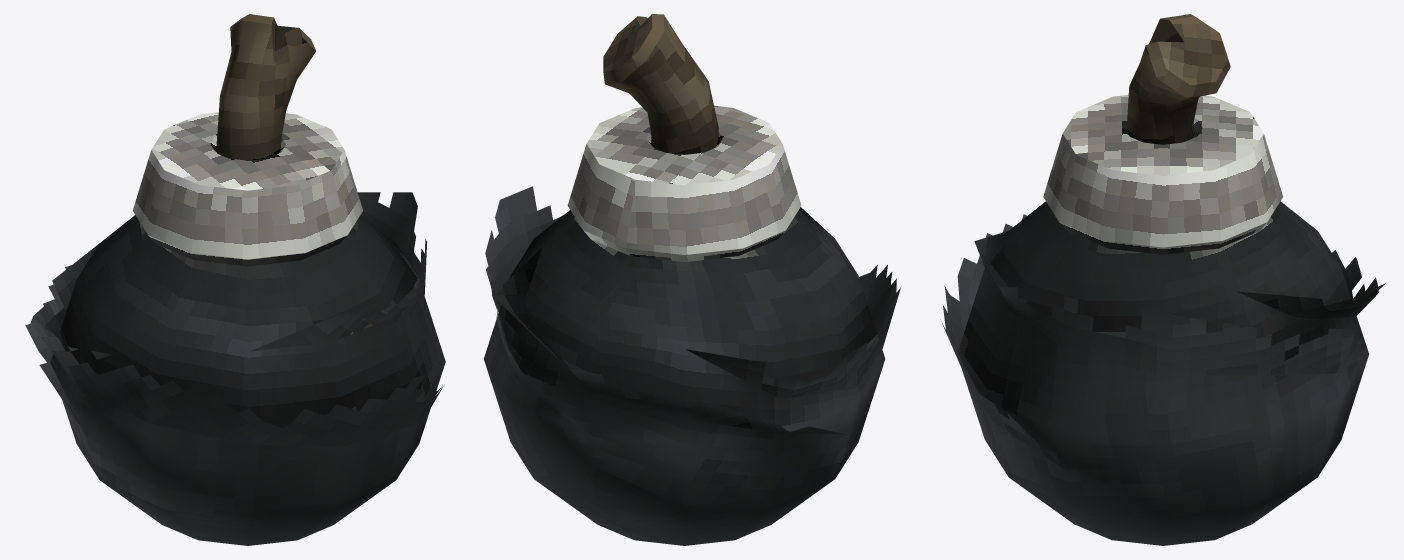
Rendered from bomb.fbx.
3 views of the same model, side by side, from view 1: azimuth 30°, elevation 25°; view 2: azimuth 150°, elevation 25°; view 3: azimuth 270°, elevation 25° (orthographic). The views are drawn at different scales.
Parts seen in each view (by area): view 1: Object002; view 2: Object002; view 3: Object002.
Part boxes in pixels (x1=…): Object002: x1=25, y1=14, x2=445, y2=545; Object002: x1=484, y1=14, x2=901, y2=545; Object002: x1=940, y1=14, x2=1385, y2=545.
Bounding box in the file's own units: 25.04 × 33.37 × 26.37.
Materials: 1 (1 with a texture image).
